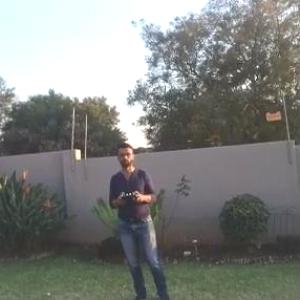follow: (107, 138, 181, 299)
